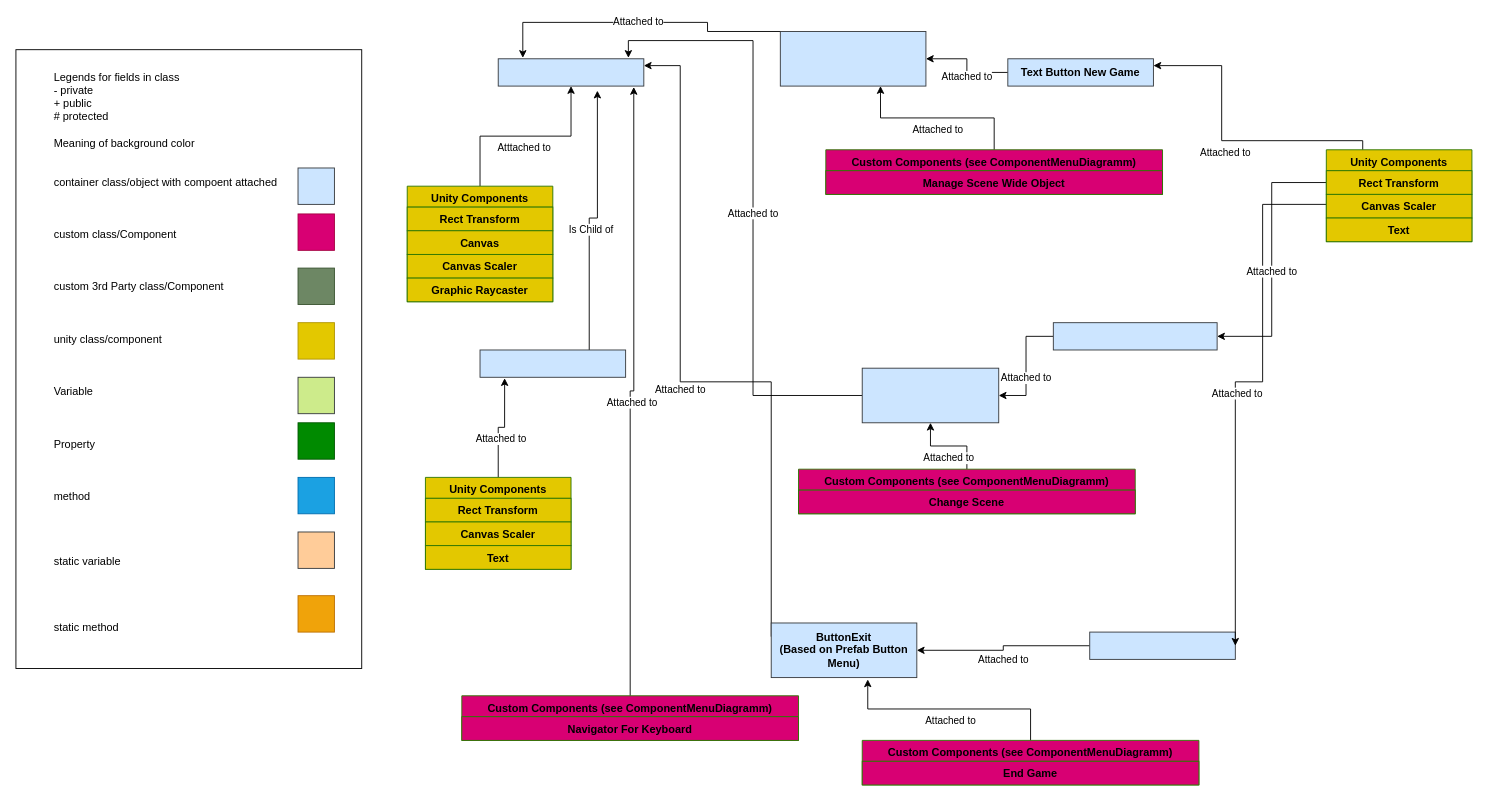
Image size: 1488x804. Some labels were removed from this diagram. Each missing label, with the centre of its shape:
Button Back To Menue (Based on Prefab Button Menu): the point at 930,395
Button New Game (Based on Prefab Button Menu): the point at 852,58
GameOverScreen: the point at 570,72
GameOverTitleText: the point at 552,363
Text Button Back To Menue: the point at 1134,336
Text Button Exit: the point at 1162,645
